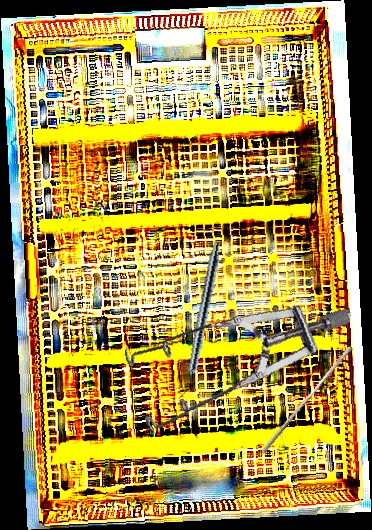Handpiece: (179, 241, 223, 399)
Pusher: (260, 342, 354, 458)
Speculum: (107, 261, 353, 475)
